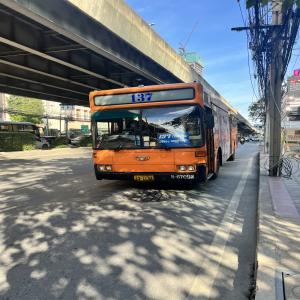BMTA-bus: (89, 82, 237, 185)
Bus Line Number: (127, 92, 155, 103)
Bus Side Number: (168, 173, 195, 180)
Destination Sign: (157, 132, 190, 146)
